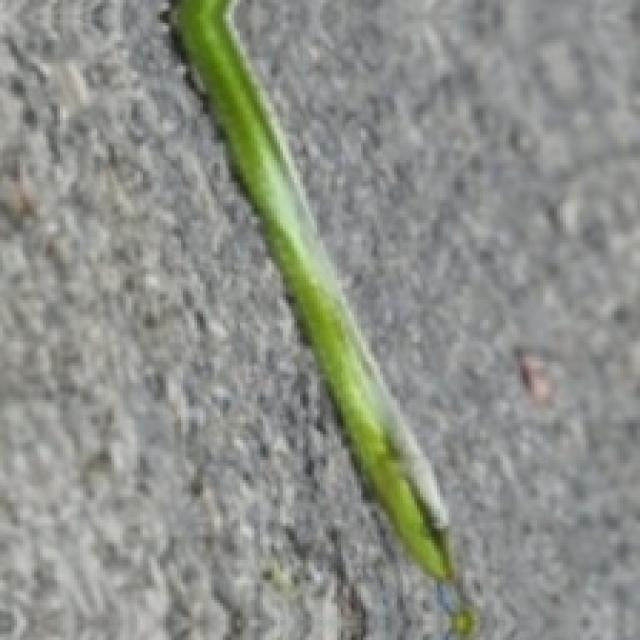red-tailed green ratsnake: (171, 0, 474, 637)
